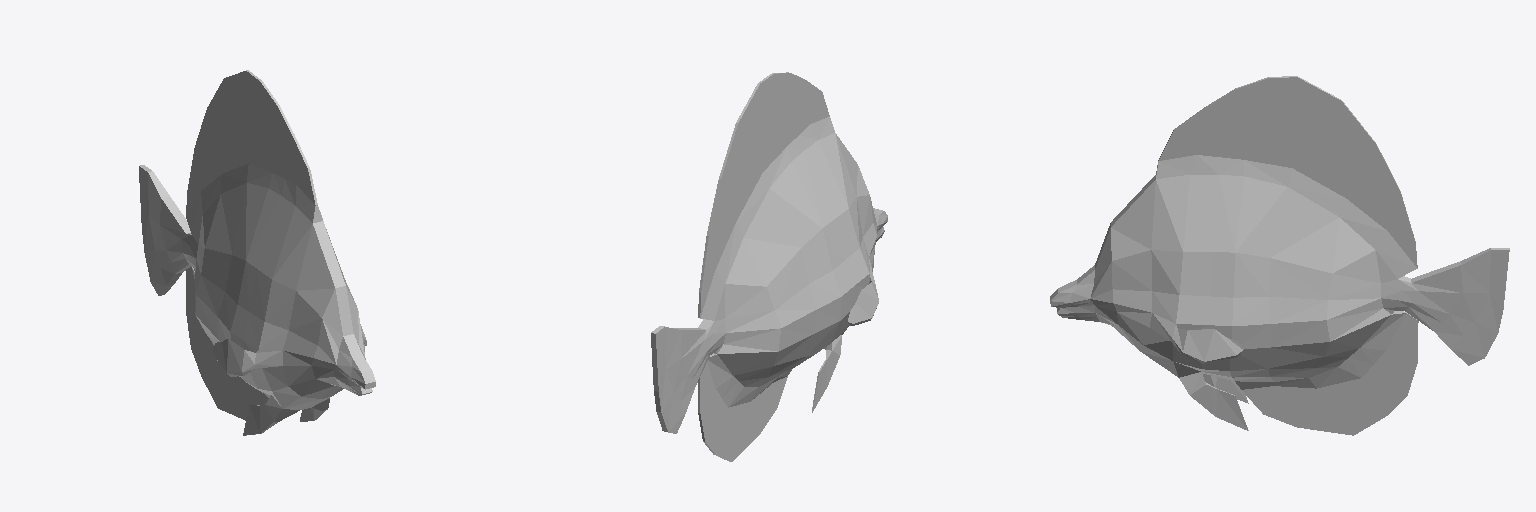
The model's file is Fish05.obj.
The picture shows the model from 3 angles: view 1: azimuth 30°, elevation 25°; view 2: azimuth 150°, elevation 25°; view 3: azimuth 270°, elevation 25°; orthographic projection.
Visible parts, largest first — view 1: TropicalFish05:TropicalFish05; view 2: TropicalFish05:TropicalFish05; view 3: TropicalFish05:TropicalFish05.
Part boxes in pixels (left/top/right/bottom): TropicalFish05:TropicalFish05: left=139, top=70, right=375, bottom=435; TropicalFish05:TropicalFish05: left=651, top=72, right=887, bottom=461; TropicalFish05:TropicalFish05: left=1050, top=76, right=1509, bottom=435.
Bounding box in the file's own units: 15.16 × 38.95 × 45.22.